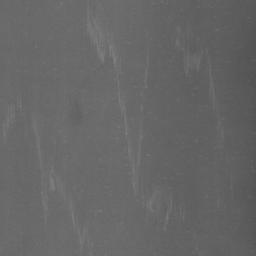Silk spot: (101, 45, 113, 68), (75, 102, 82, 120), (252, 229, 256, 248)
